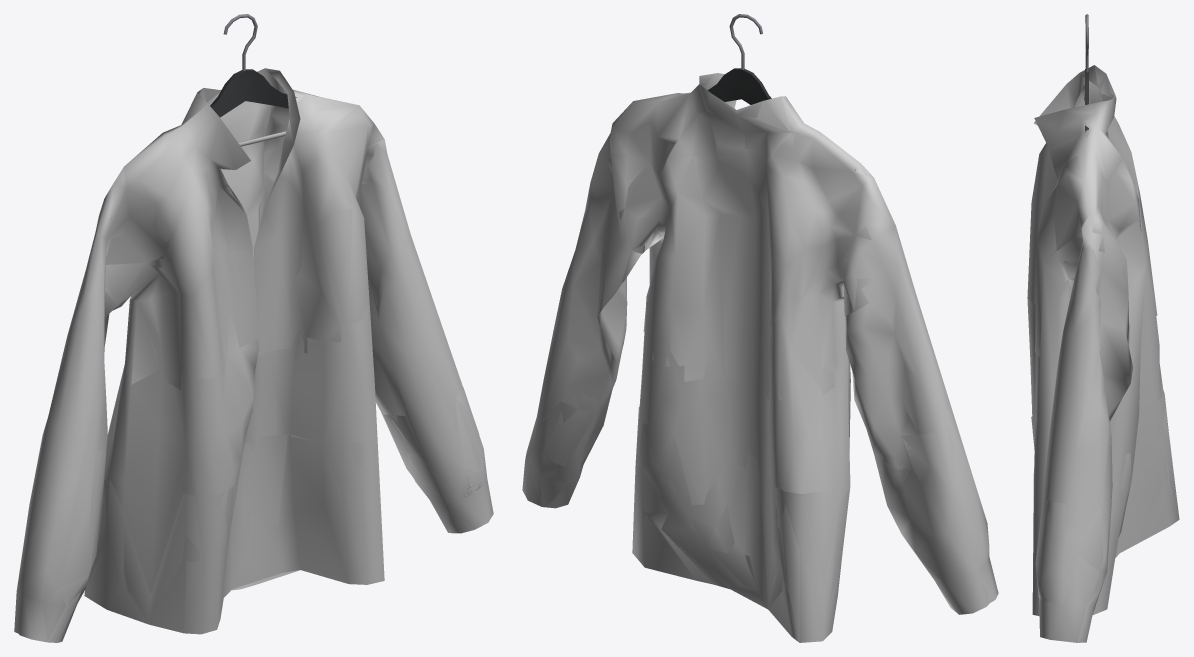
Rendered from sweater-2.FBX.
3 views of the same model, side by side, from view 1: azimuth 30°, elevation 25°; view 2: azimuth 150°, elevation 25°; view 3: azimuth 270°, elevation 25° (orthographic). The views are drawn at different scales.
Visible parts, largest first — view 1: sweater-2_LOD0, _Hanger-3_LOD0; view 2: sweater-2_LOD0, _Hanger-3_LOD0; view 3: sweater-2_LOD0, _Hanger-3_LOD0.
Boxes of the visible parts, box(x1,y1,x2,y2) form: sweater-2_LOD0: box(14, 68, 493, 642); _Hanger-3_LOD0: box(210, 14, 296, 146); sweater-2_LOD0: box(522, 73, 998, 642); _Hanger-3_LOD0: box(708, 14, 855, 170); sweater-2_LOD0: box(1027, 65, 1179, 642); _Hanger-3_LOD0: box(1085, 14, 1088, 132).
Size of what is drawn, in the model's own units: 65.27 by 19.19 by 78.22.
